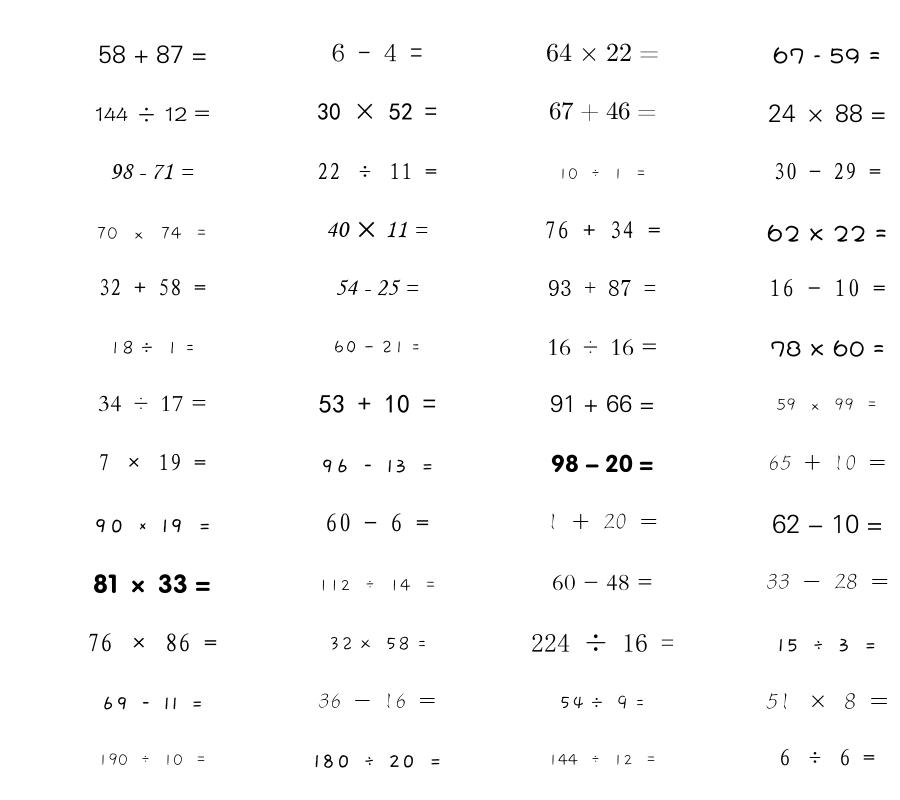MQ: (531, 633, 674, 652), (87, 633, 217, 652), (93, 574, 211, 594), (319, 394, 436, 414), (768, 104, 886, 123), (772, 514, 883, 534), (317, 103, 437, 121), (317, 162, 437, 180), (767, 224, 887, 242), (546, 43, 659, 62), (549, 102, 656, 122), (544, 221, 661, 239), (769, 279, 886, 297), (766, 693, 888, 710), (98, 45, 207, 64), (550, 394, 655, 413), (325, 513, 429, 532), (766, 573, 889, 589), (770, 340, 885, 357), (773, 162, 881, 180), (98, 278, 206, 296), (98, 453, 206, 471), (551, 454, 653, 473), (768, 455, 886, 471), (318, 693, 436, 709), (547, 339, 658, 356), (547, 513, 658, 530), (98, 395, 207, 412), (773, 47, 881, 64), (313, 754, 442, 768), (326, 221, 428, 238), (332, 43, 423, 62), (548, 280, 656, 296), (779, 748, 875, 766), (95, 107, 210, 122), (552, 574, 653, 591), (93, 519, 212, 533), (320, 459, 434, 473), (318, 579, 437, 592), (328, 636, 427, 651), (96, 227, 208, 240), (101, 696, 204, 710), (110, 163, 194, 180), (335, 279, 419, 296), (98, 753, 207, 766), (777, 638, 877, 652), (776, 398, 878, 411), (548, 754, 657, 766), (109, 340, 195, 355), (559, 695, 645, 710), (333, 340, 421, 354), (558, 168, 647, 180)
